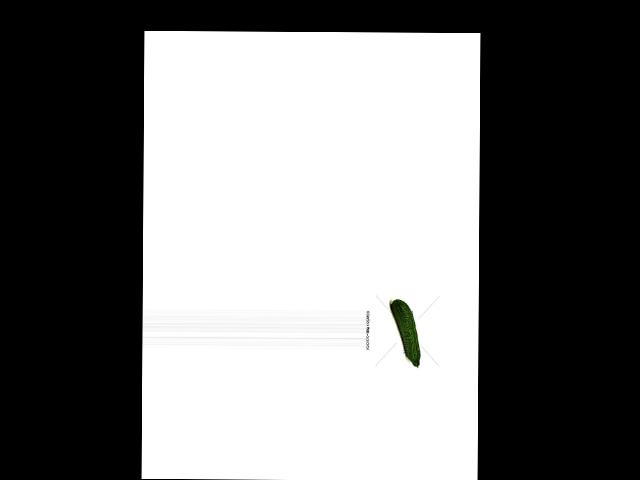cucumber: (390, 300, 420, 368)
